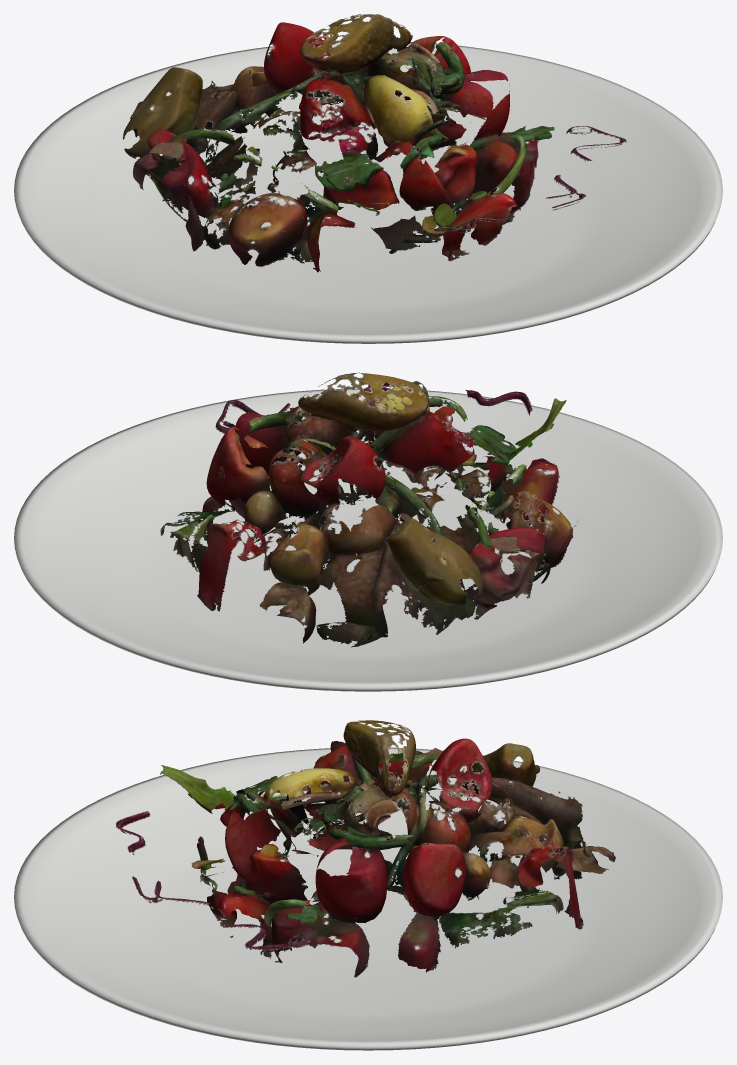
File: baqlajon.glb
The picture shows the model from 3 angles, top to bottom: view 1: azimuth 30°, elevation 25°; view 2: azimuth 150°, elevation 25°; view 3: azimuth 270°, elevation 25°; orthographic projection.
Parts seen in each view (by area): view 1: plate, tripo_node_1d98b698-223c-4014-a977-0ba58e129876; view 2: plate, tripo_node_1d98b698-223c-4014-a977-0ba58e129876; view 3: plate, tripo_node_1d98b698-223c-4014-a977-0ba58e129876.
Part boxes in pixels (bbox=[...]): plate: bbox=[14, 42, 722, 343]; tripo_node_1d98b698-223c-4014-a977-0ba58e129876: bbox=[123, 14, 626, 272]; plate: bbox=[14, 388, 722, 691]; tripo_node_1d98b698-223c-4014-a977-0ba58e129876: bbox=[160, 372, 577, 647]; plate: bbox=[14, 747, 722, 1050]; tripo_node_1d98b698-223c-4014-a977-0ba58e129876: bbox=[116, 720, 615, 977].
Bounding box in the file's own units: 0.9 × 0.3024 × 0.9.
2 materials, 1 textured.
